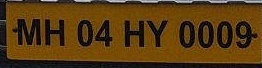character: (16, 17, 41, 46), (123, 18, 145, 48), (145, 19, 167, 48), (44, 18, 66, 46), (95, 19, 113, 48), (178, 19, 195, 48), (197, 20, 214, 49), (216, 20, 232, 49), (235, 20, 251, 49), (76, 19, 92, 47)
